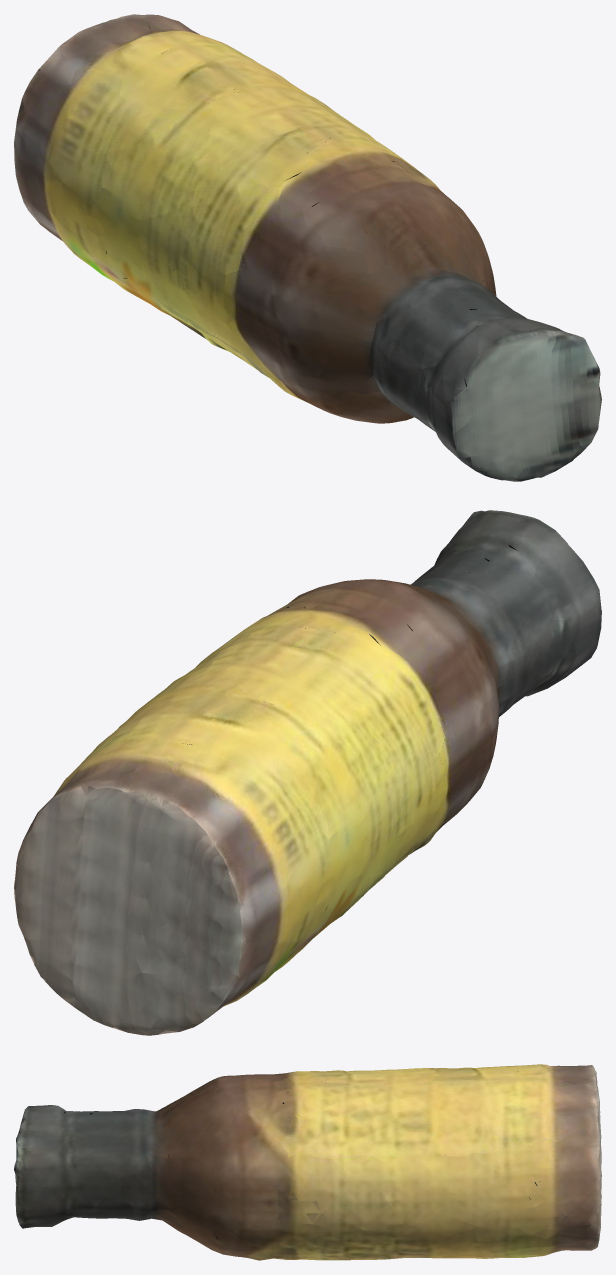
3 renders of one model, top to bottom at view 1: azimuth 30°, elevation 25°; view 2: azimuth 150°, elevation 25°; view 3: azimuth 270°, elevation 25°, orthographic. The views are drawn at different scales.
Visible parts, largest first — view 1: world; view 2: world; view 3: world.
Part boxes in pixels (box(x1,y1,x2,y2)): world: box(14, 14, 601, 481); world: box(14, 510, 601, 1035); world: box(14, 1064, 601, 1260).
Bounding box in the file's own units: 0.3467 × 0.3222 × 0.9782.
1 material, 1 textured.
